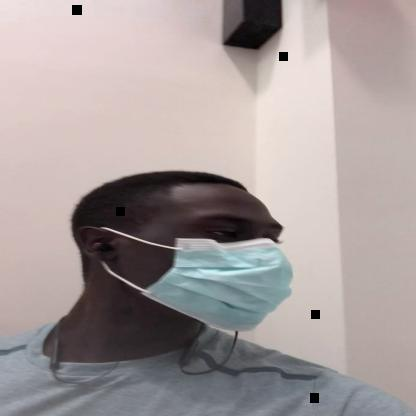mask: (100, 191, 296, 332)
